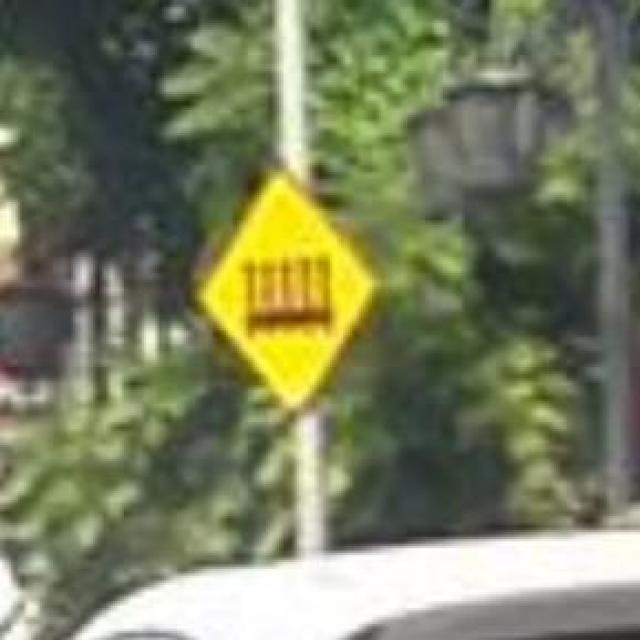traffic sign: (206, 181, 374, 399)
